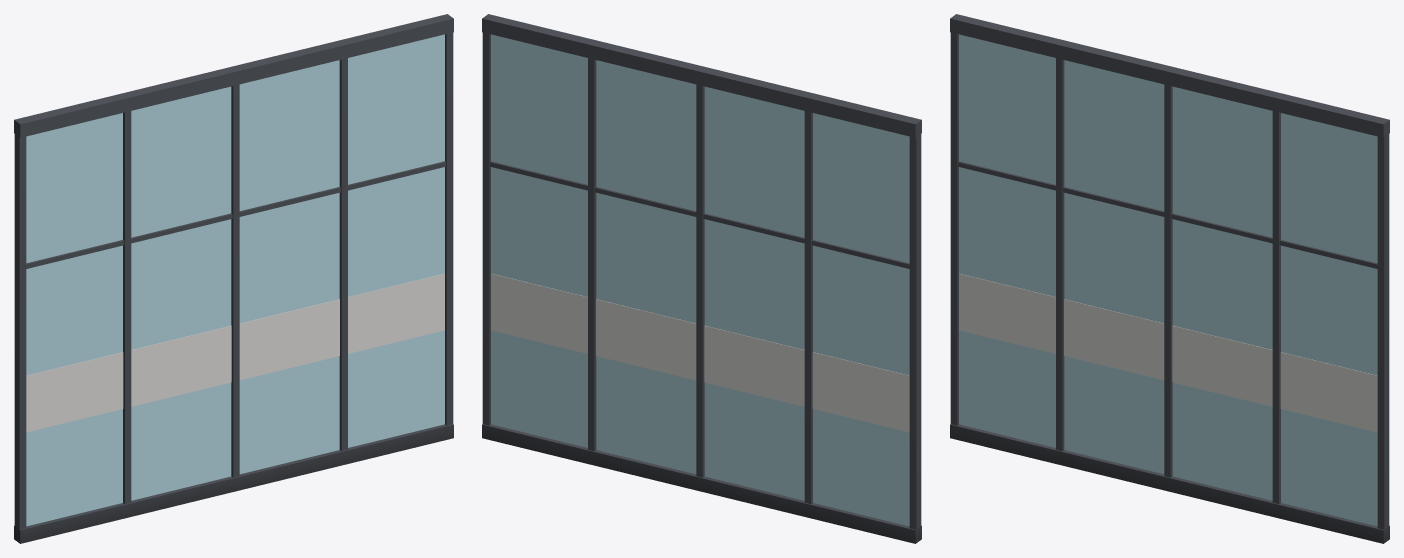
Rendered from wall_glass_01.glb.
3 renders of one model, left to right at view 1: azimuth 30°, elevation 25°; view 2: azimuth 150°, elevation 25°; view 3: azimuth 330°, elevation 25°, orthographic.
Visible parts, largest first — view 1: wall_glass_01_glass, wall_glass_01_mesh; view 2: wall_glass_01_glass, wall_glass_01_mesh; view 3: wall_glass_01_glass, wall_glass_01_mesh.
Part boxes in pixels (left/top/right/bottom): wall_glass_01_glass: left=26, top=34, right=444, bottom=526; wall_glass_01_mesh: left=14, top=14, right=453, bottom=543; wall_glass_01_glass: left=491, top=34, right=909, bottom=526; wall_glass_01_mesh: left=482, top=14, right=921, bottom=543; wall_glass_01_glass: left=959, top=34, right=1377, bottom=526; wall_glass_01_mesh: left=950, top=14, right=1389, bottom=543.
Size of the model in its own units: 4 by 3.7 by 0.1.
2 materials, 2 textured.
